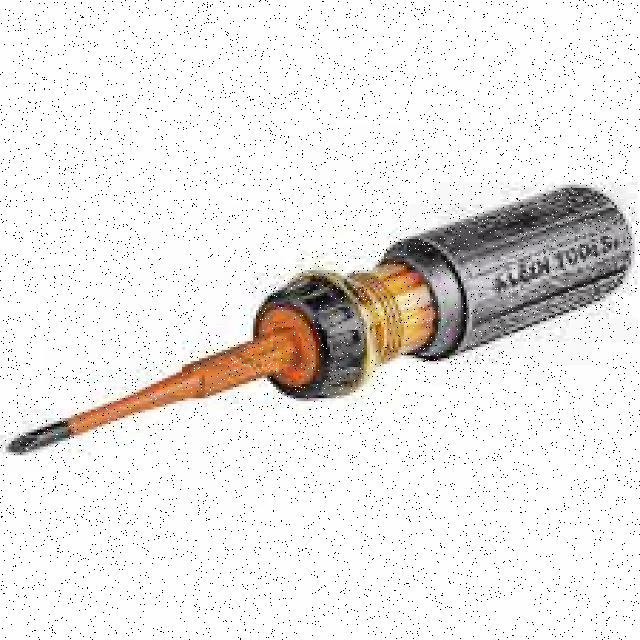screwdriver: (8, 186, 630, 454)
